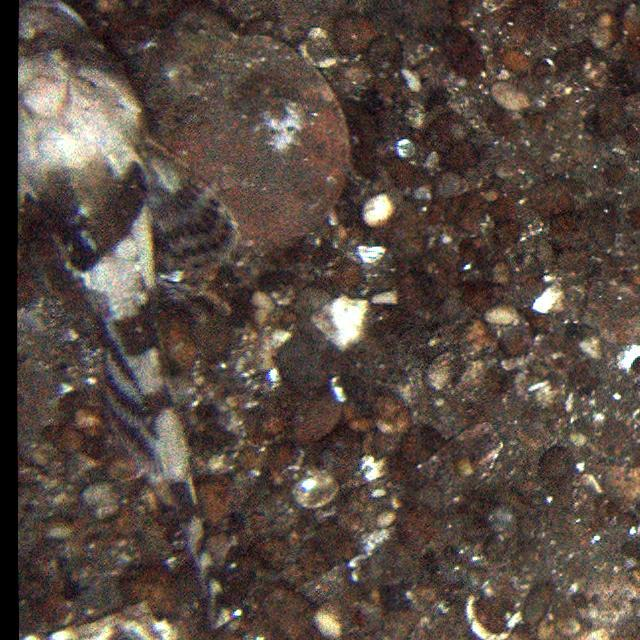roundfish: (17, 6, 245, 638)
